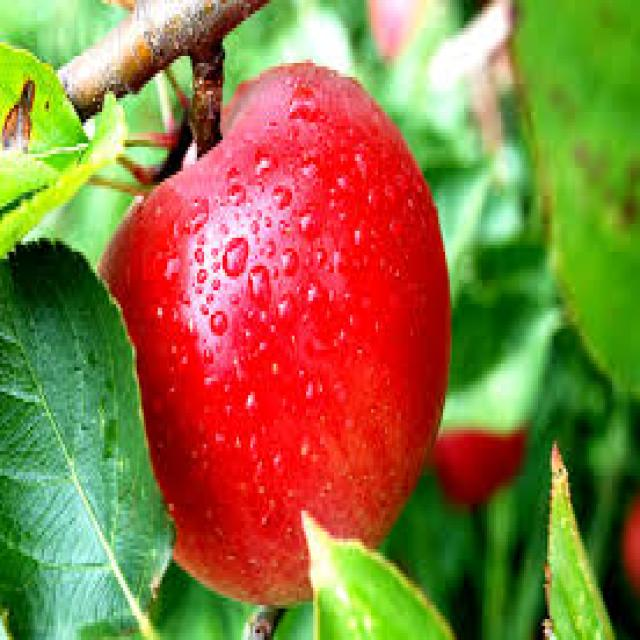apple: (98, 57, 466, 591)
